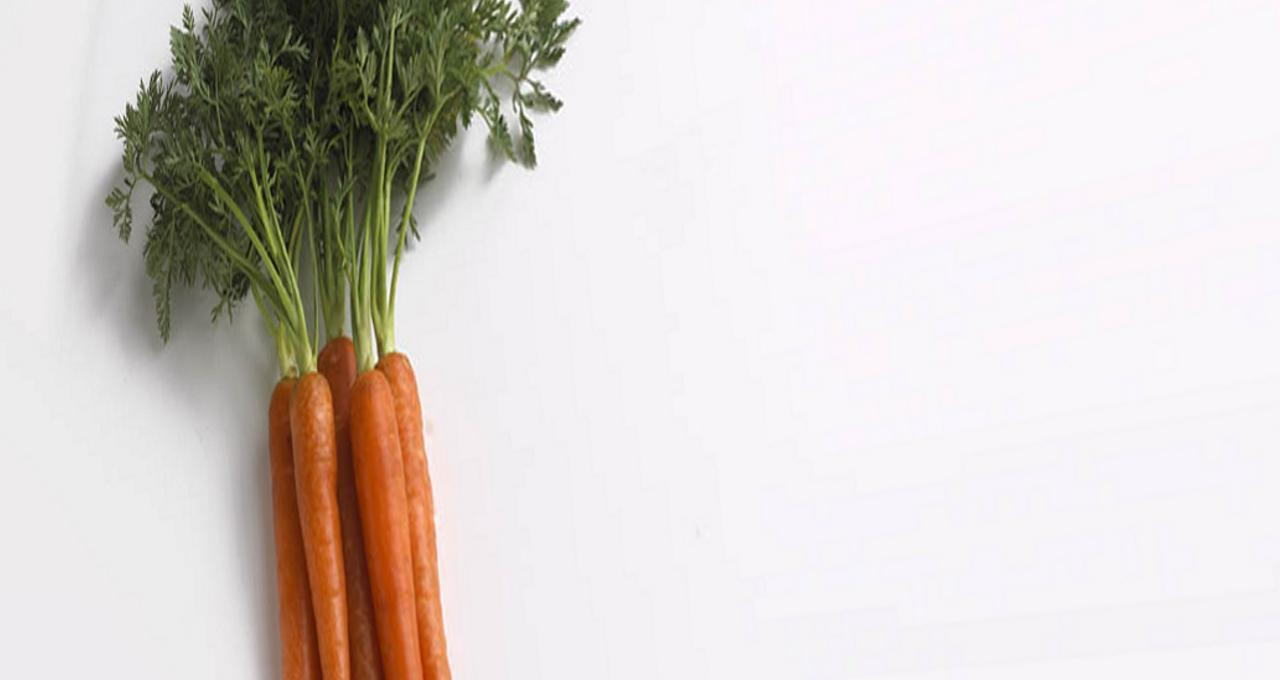carrot: (52, 4, 566, 680)
